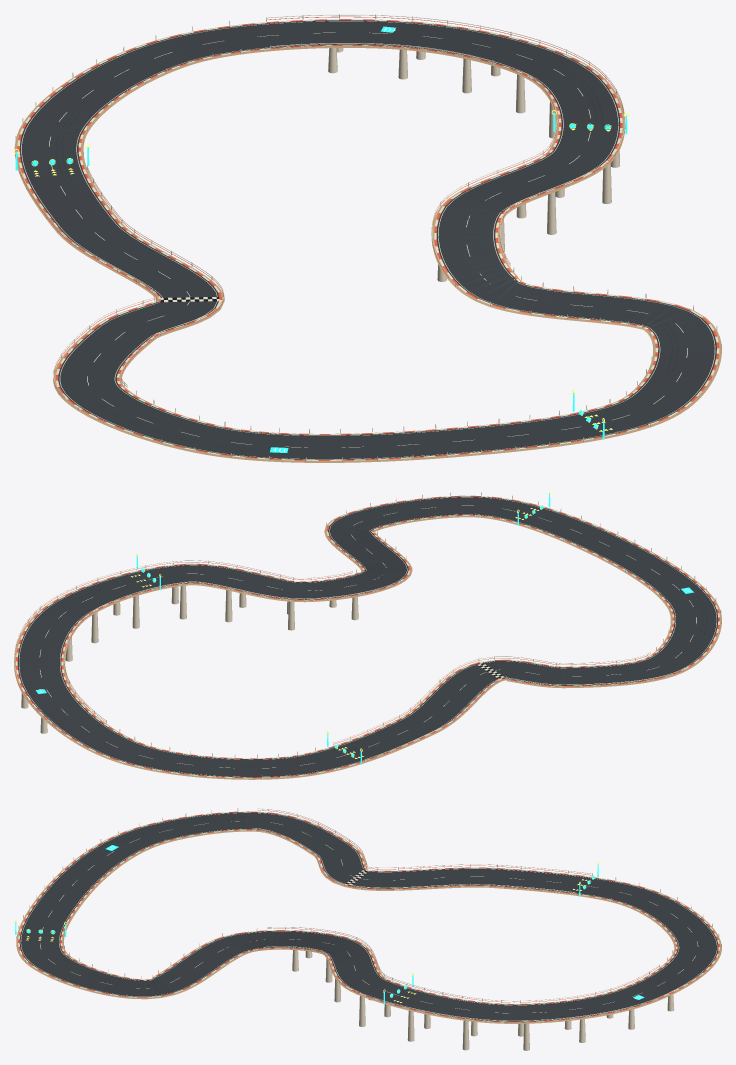
The picture shows the model from 3 angles, top to bottom: view 1: azimuth 30°, elevation 25°; view 2: azimuth 150°, elevation 25°; view 3: azimuth 270°, elevation 25°; orthographic projection. The views are drawn at different scales.
Visible parts, largest first — view 1: asphalt, ivory, rock, orange, Rubber worn corner lines, Pickup turquoise energy; view 2: asphalt, ivory, rock, orange; view 3: asphalt, ivory, rock, orange.
Boxes of the visible parts, x1=… form: asphalt: x1=19, y1=20, x2=716, y2=459; ivory: x1=15, y1=14, x2=721, y2=461; rock: x1=14, y1=19, x2=721, y2=462; orange: x1=17, y1=16, x2=719, y2=460; Rubber worn corner lines: x1=56, y1=48, x2=678, y2=451; Pickup turquoise energy: x1=15, y1=26, x2=627, y2=452; asphalt: x1=17, y1=496, x2=718, y2=777; ivory: x1=14, y1=492, x2=721, y2=778; rock: x1=14, y1=495, x2=721, y2=779; orange: x1=14, y1=495, x2=719, y2=778; asphalt: x1=19, y1=812, x2=718, y2=1021; ivory: x1=16, y1=808, x2=721, y2=1050; rock: x1=16, y1=811, x2=721, y2=1023; orange: x1=18, y1=810, x2=719, y2=1022.
Bounding box in the file's own units: 183 × 17.32 × 231.
10 materials, 1 textured.
